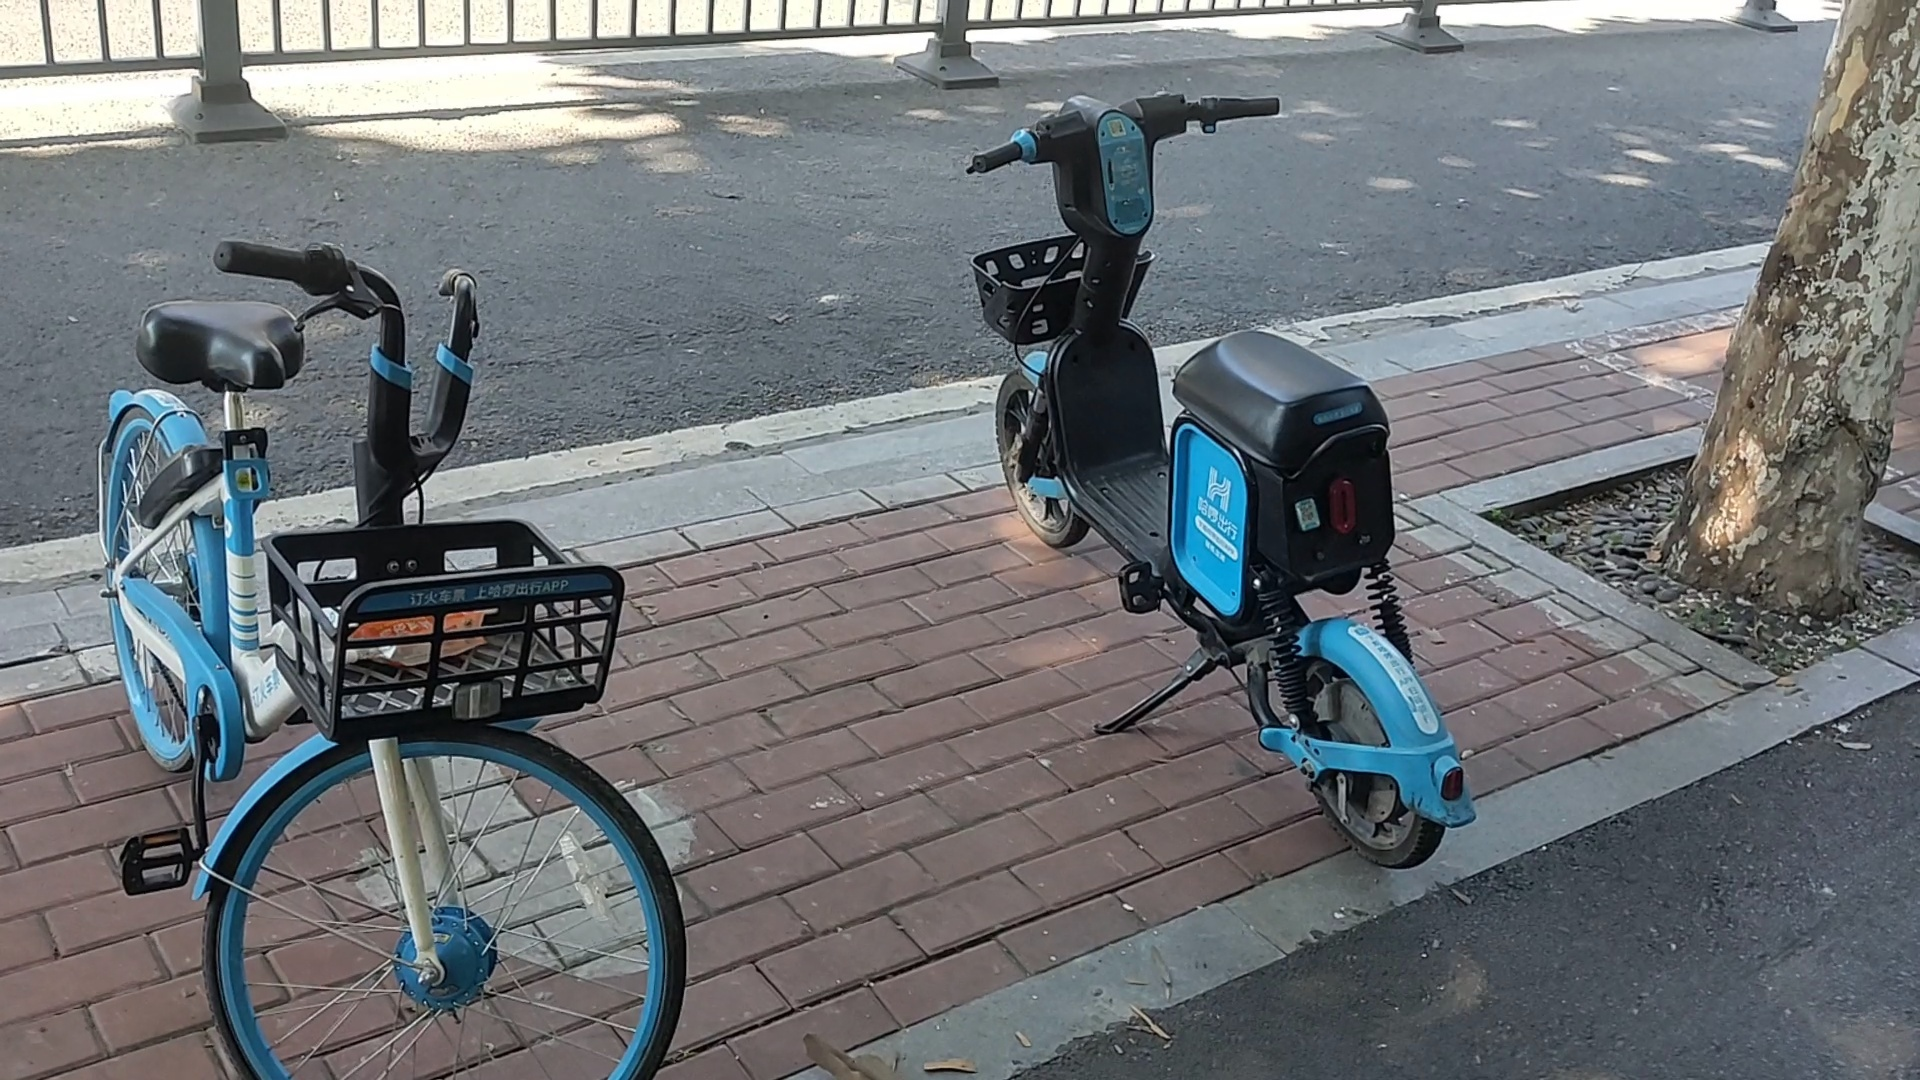non-vehicle: (40, 227, 676, 1080), (959, 79, 1480, 880)
